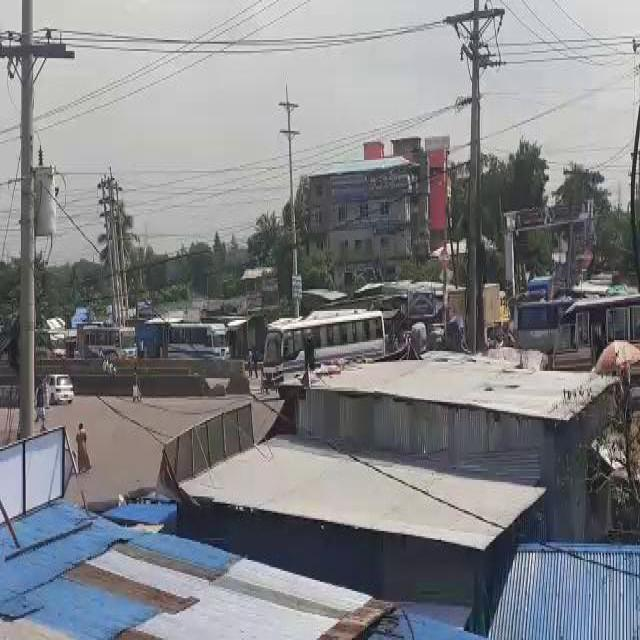18: (449, 284, 509, 338)
5: (41, 369, 73, 402)
Truck: (263, 306, 391, 378), (508, 296, 566, 351), (168, 320, 226, 360), (80, 321, 134, 359)
